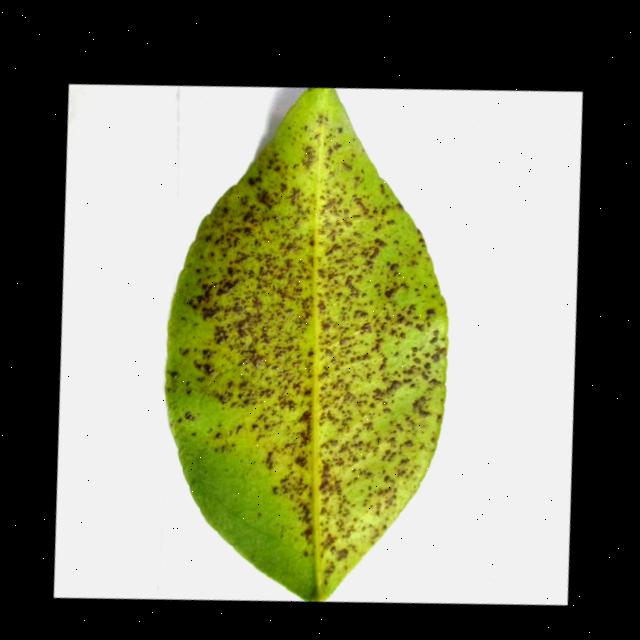melanose: (163, 88, 447, 600)
